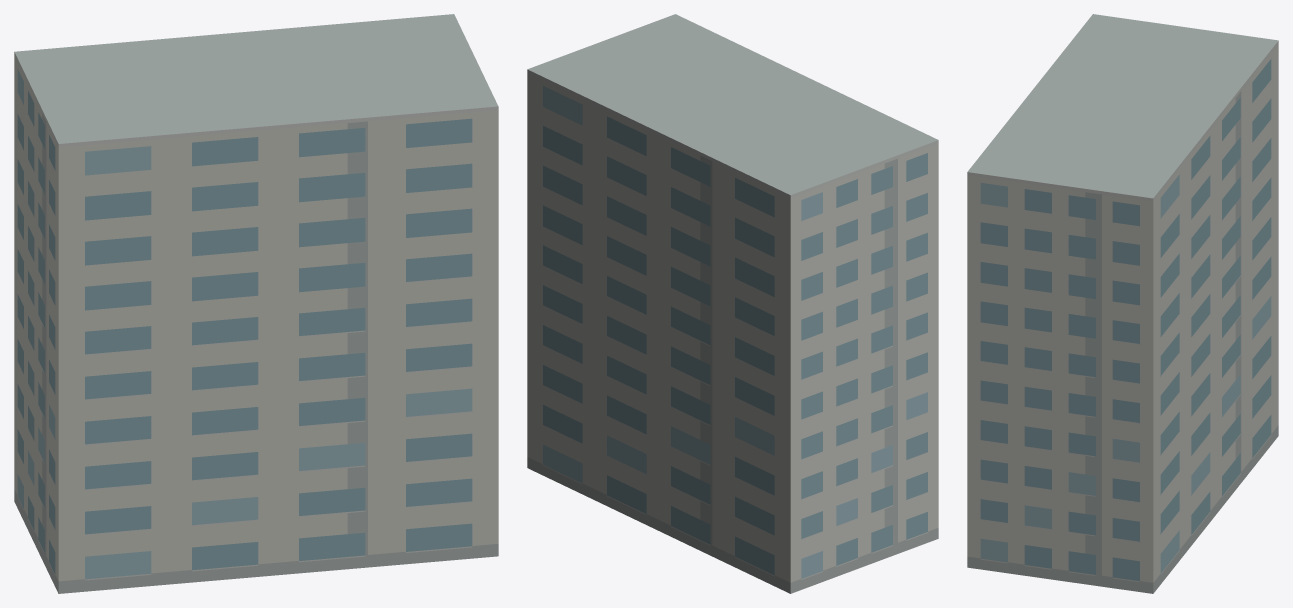
The model's file is residential-d52f92ec-c641-40f8-9cd2-89660629a4c8.glb.
The picture shows the model from 3 angles, left to right: view 1: azimuth 30°, elevation 25°; view 2: azimuth 150°, elevation 25°; view 3: azimuth 270°, elevation 25°; orthographic projection. The views are drawn at different scales.
Parts seen in each view (by area): view 1: residential-d52f92ec-c641-40f8-9cd2-89660629a4c8.tmp; view 2: residential-d52f92ec-c641-40f8-9cd2-89660629a4c8.tmp; view 3: residential-d52f92ec-c641-40f8-9cd2-89660629a4c8.tmp.
Part boxes in pixels (x1,y1,x2,y2): residential-d52f92ec-c641-40f8-9cd2-89660629a4c8.tmp: (14,14,498,593); residential-d52f92ec-c641-40f8-9cd2-89660629a4c8.tmp: (527,14,938,593); residential-d52f92ec-c641-40f8-9cd2-89660629a4c8.tmp: (967,14,1278,593).
Bounding box in the file's own units: 29.01 × 29 × 20.71.
